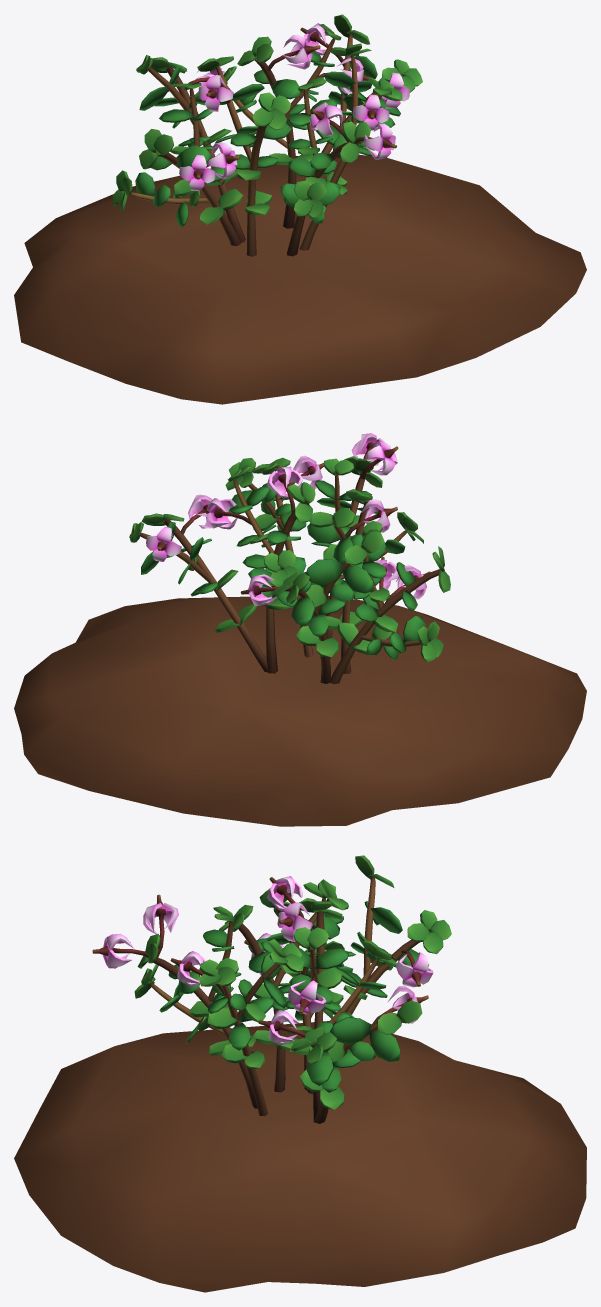
Rendered from SM_PlantSoil_Cranberry_Lv3.fbx.
The picture shows the model from 3 angles, top to bottom: view 1: azimuth 30°, elevation 25°; view 2: azimuth 150°, elevation 25°; view 3: azimuth 270°, elevation 25°; orthographic projection. The views are drawn at different scales.
Parts seen in each view (by area): view 1: SM_PlantSoil_Cranberry_Lv3; view 2: SM_PlantSoil_Cranberry_Lv3; view 3: SM_PlantSoil_Cranberry_Lv3.
Part boxes in pixels (x1,y1,x2,y2): SM_PlantSoil_Cranberry_Lv3: (14, 14, 586, 404); SM_PlantSoil_Cranberry_Lv3: (14, 433, 586, 826); SM_PlantSoil_Cranberry_Lv3: (14, 855, 586, 1292).
Size of the model in its own units: 118 by 53.6 by 106.
